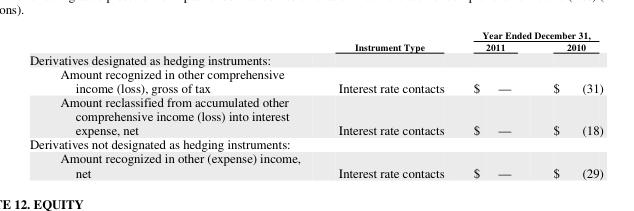table: (28, 29, 602, 179)
table column: (28, 29, 318, 179), (318, 29, 458, 179), (458, 29, 531, 179), (531, 29, 602, 179)
table column header: (28, 29, 602, 51)
table projected row header: (28, 51, 602, 66), (28, 136, 602, 150)
table row: (28, 94, 602, 136), (28, 150, 602, 179), (28, 66, 602, 94), (28, 51, 602, 66), (28, 136, 602, 150), (28, 29, 602, 40), (28, 40, 602, 51)
table spanning cell: (318, 29, 458, 51), (458, 29, 602, 40)
